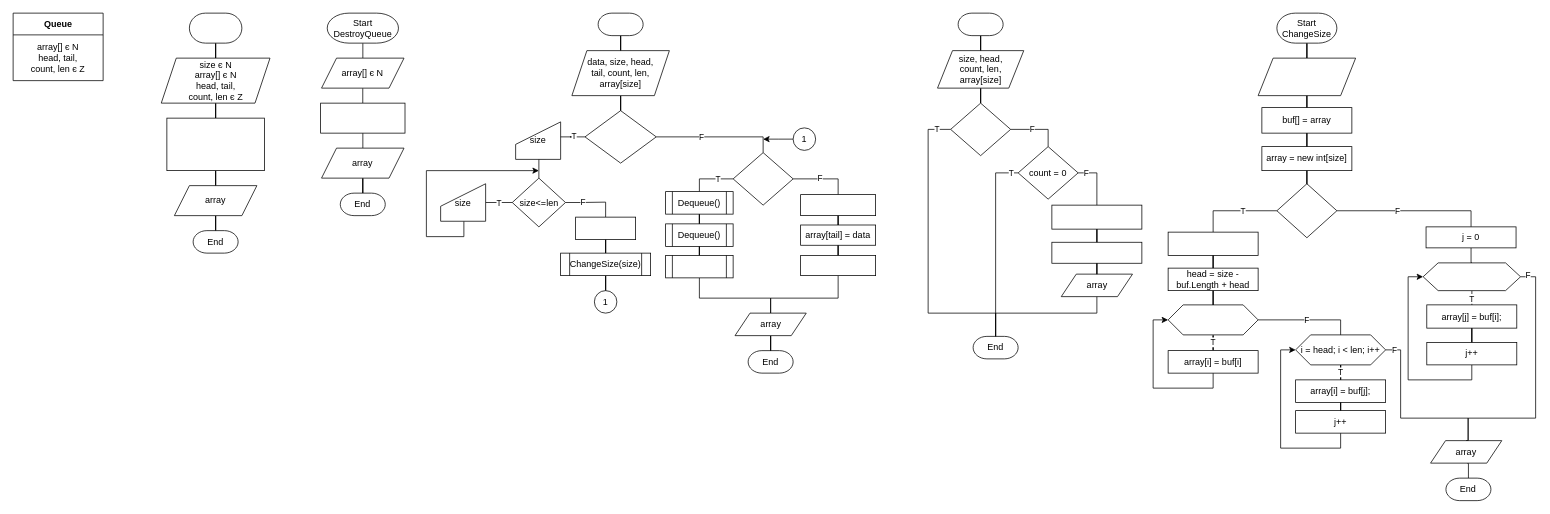
Some shapes in this 1550 by 514 pixel diagram are drawn without their labels. The centre of each missing label's shape, as x and y in pixels:
array = new int[0]: point 362,117
array = new int[size] head = 0 tail = -1 count = 0 len = size: point 215,144
count = 1: point 980,129
count = len: point 620,136
count++: point 838,265
count--: point 1096,252
data = 0: point 762,178
Dequeue: point 699,266
head = (head+1)%len: point 1096,216
head>tail: point 1306,210
i = 0; i <= tail; i++: point 1212,319
i = head; i <= tail; i++: point 1471,276
j = head: point 1212,243
len = size: point 605,228
size, head, tail, len, array[]: point 1306,76
Start Dequeue: point 980,24
Start Enqueue: point 620,24
Start InitQueue: point 215,27
tail = (tail+1)%len: point 838,205
